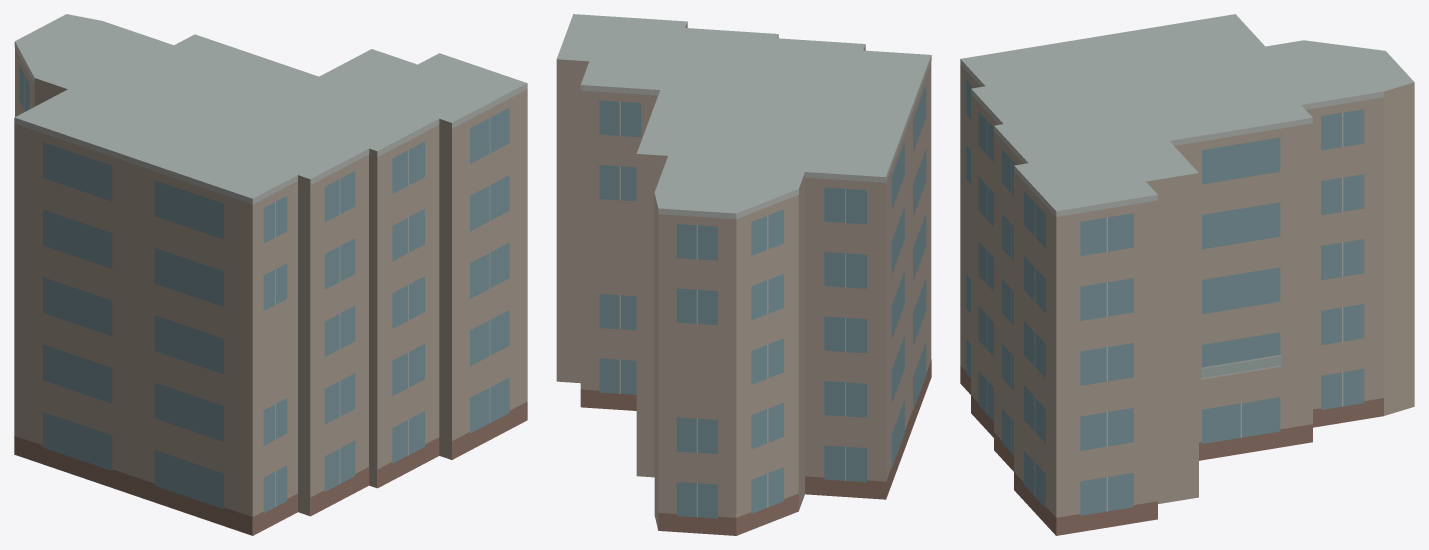
Rendered from survey-upis-32924794.glb.
3 renders of one model, left to right at view 1: azimuth 30°, elevation 25°; view 2: azimuth 150°, elevation 25°; view 3: azimuth 270°, elevation 25°, orthographic. The views are drawn at different scales.
Visible parts, largest first — view 1: survey-upis-32924794.tmp; view 2: survey-upis-32924794.tmp; view 3: survey-upis-32924794.tmp.
Boxes of the visible parts, x1,y1,x2,y2 form: survey-upis-32924794.tmp: (14,14,527,535); survey-upis-32924794.tmp: (556,14,931,535); survey-upis-32924794.tmp: (960,14,1414,535).
Bounding box in the file's own units: 18.14 × 13.9 × 17.64.
